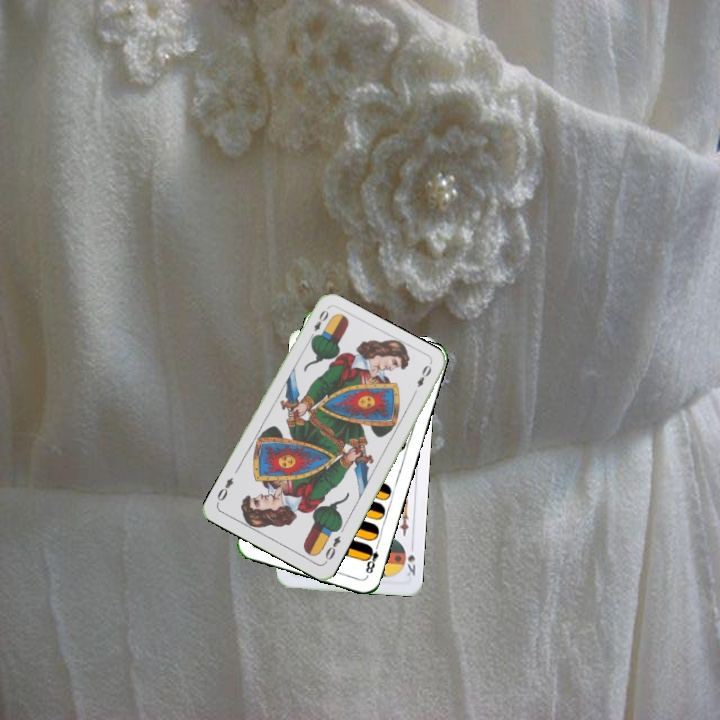E8: (361, 539, 382, 576)
EO: (305, 306, 331, 343), (321, 532, 343, 563)
SK: (402, 551, 418, 579)
